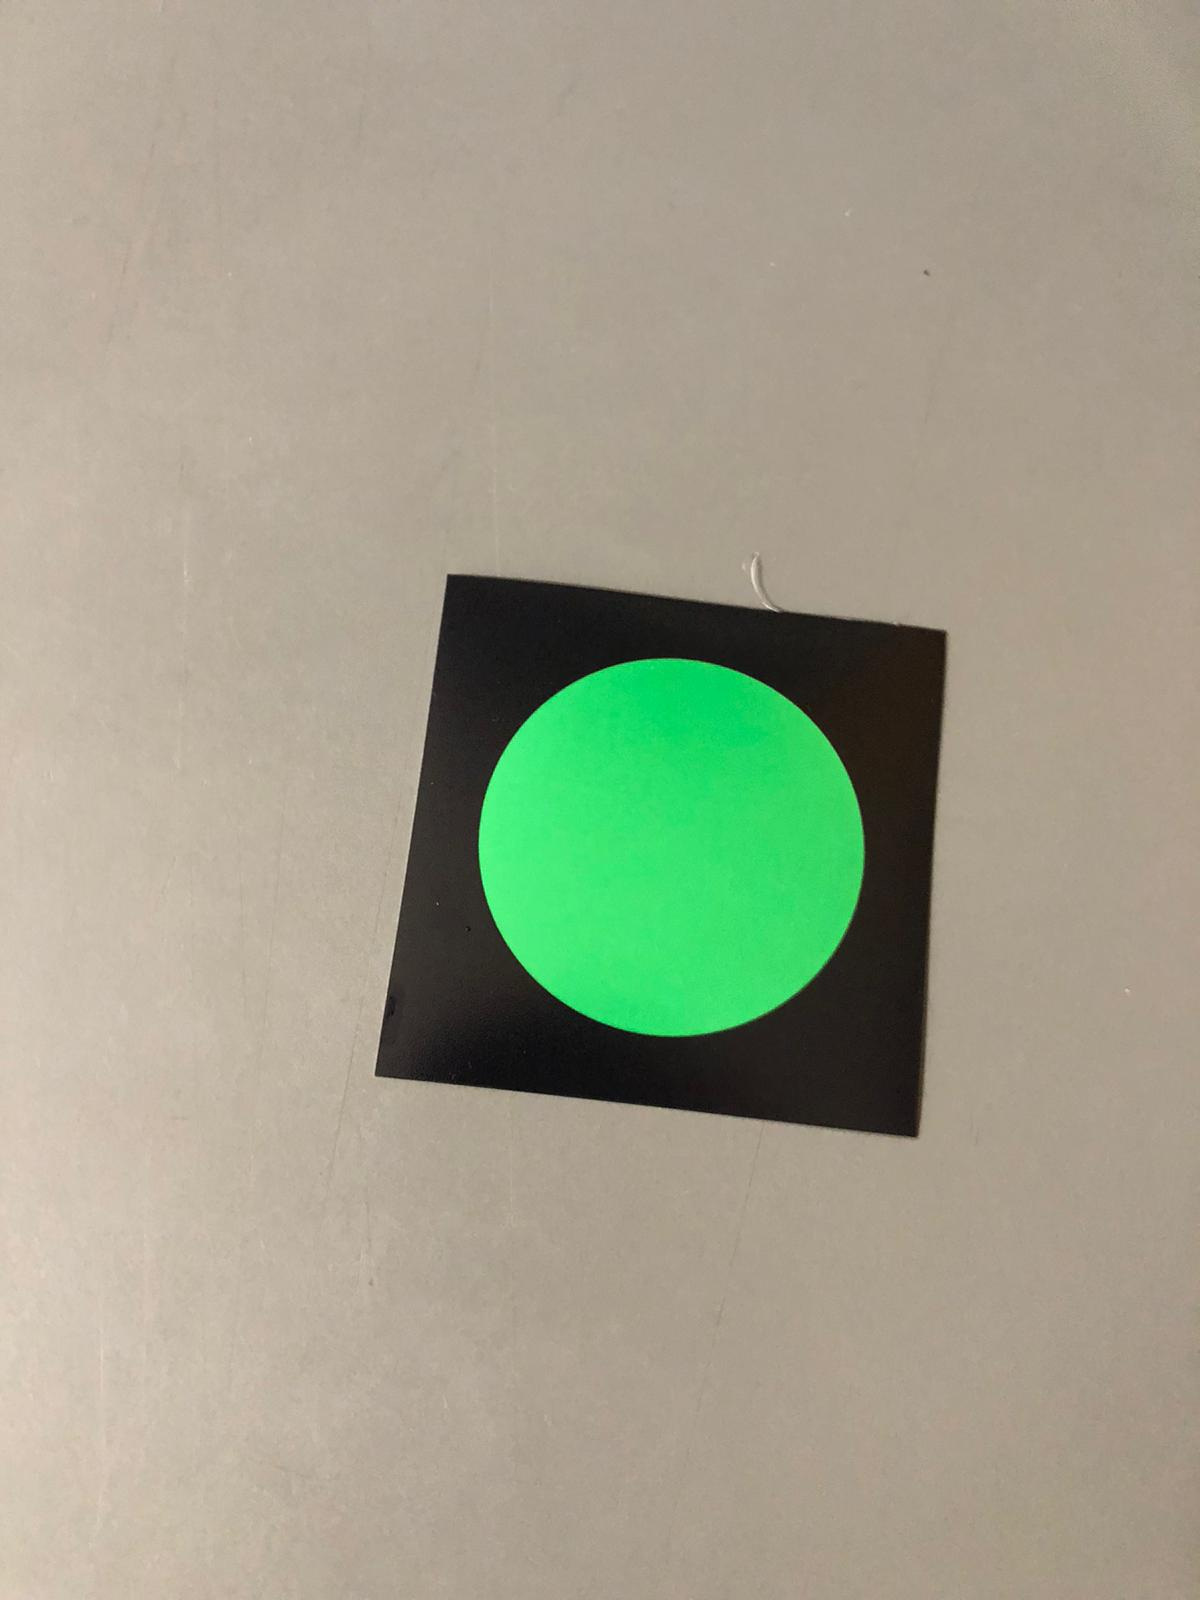Circle: (458, 581, 903, 1105)
